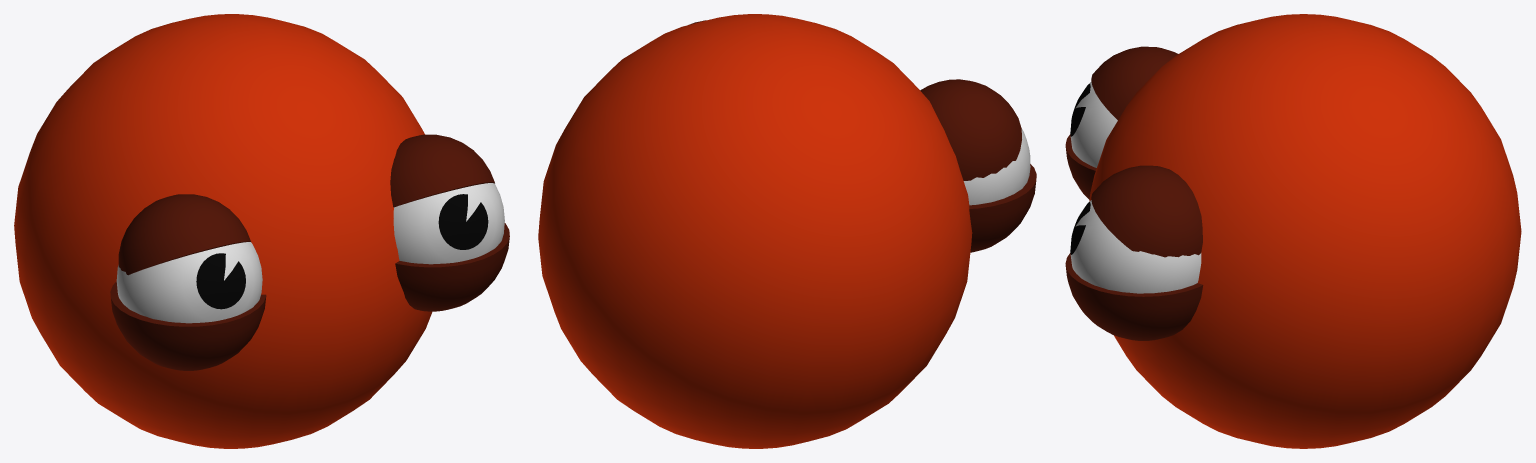
File: Char_Head_Orange.FBX
3 views of the same model, side by side, from view 1: azimuth 30°, elevation 25°; view 2: azimuth 150°, elevation 25°; view 3: azimuth 270°, elevation 25° (orthographic).
Visible parts, largest first — view 1: OrangeSphere; view 2: OrangeSphere; view 3: OrangeSphere.
Part boxes in pixels (x1,y1,x2,y2): OrangeSphere: (14,14,509,448); OrangeSphere: (538,14,1036,448); OrangeSphere: (1065,14,1521,448).
Size of the model in its own units: 14.51 by 14.42 by 15.11.
